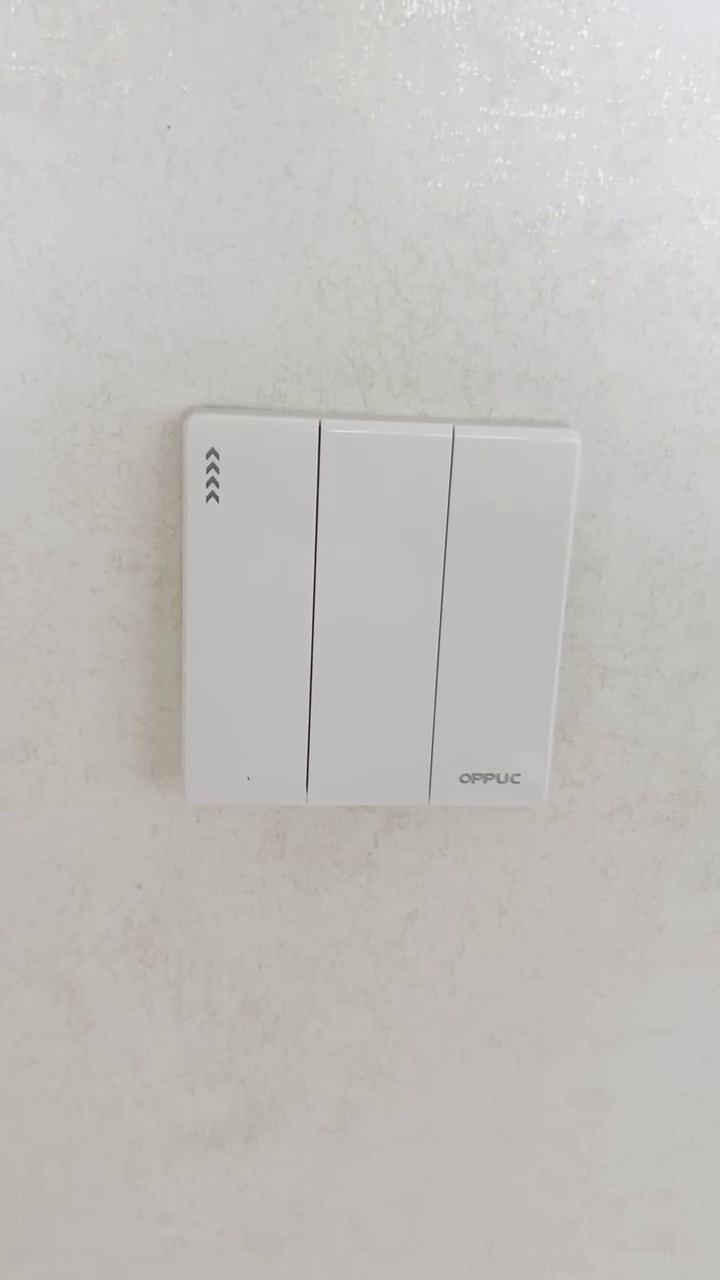button1: (433, 426, 575, 814), (307, 424, 446, 809), (185, 420, 316, 807)
